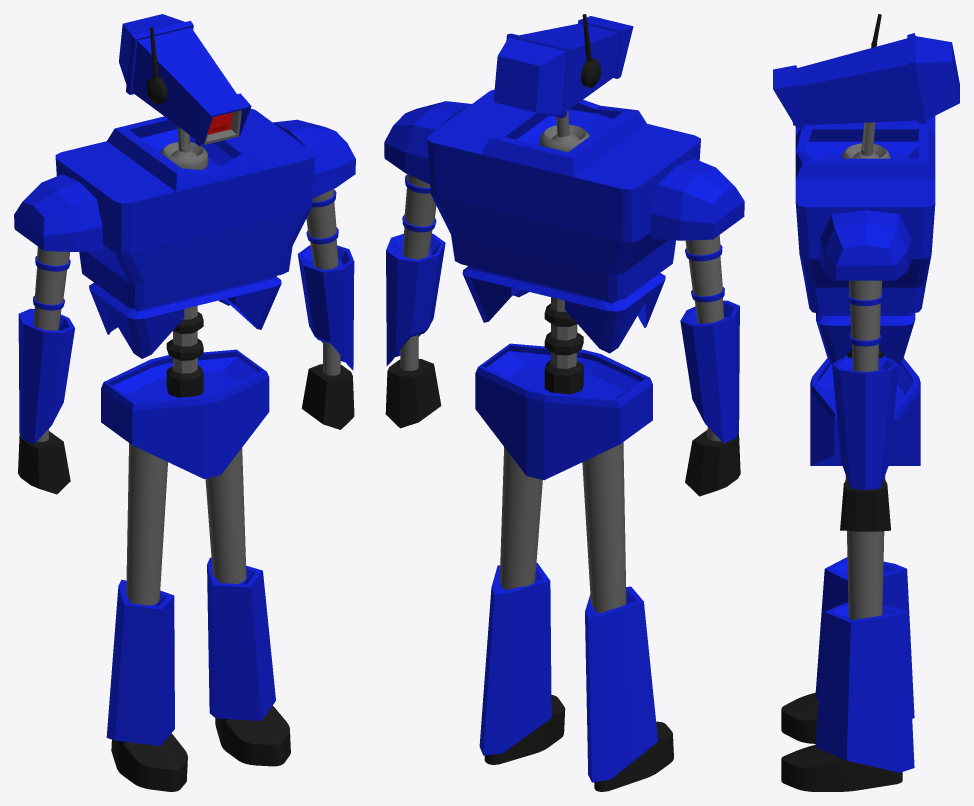
The model's file is PM2_P1_Robot_Character_Mesh01.fbx.
3 renders of one model, left to right at view 1: azimuth 30°, elevation 25°; view 2: azimuth 150°, elevation 25°; view 3: azimuth 270°, elevation 25°, orthographic. The views are drawn at different scales.
Visible parts, largest first — view 1: Spine; view 2: Spine; view 3: Spine.
Boxes of the visible parts, x1,y1,x2,y2 form: Spine: (14, 14, 355, 791); Spine: (384, 14, 744, 791); Spine: (773, 14, 959, 791).
Bounding box in the file's own units: 186 × 392 × 91.01.
